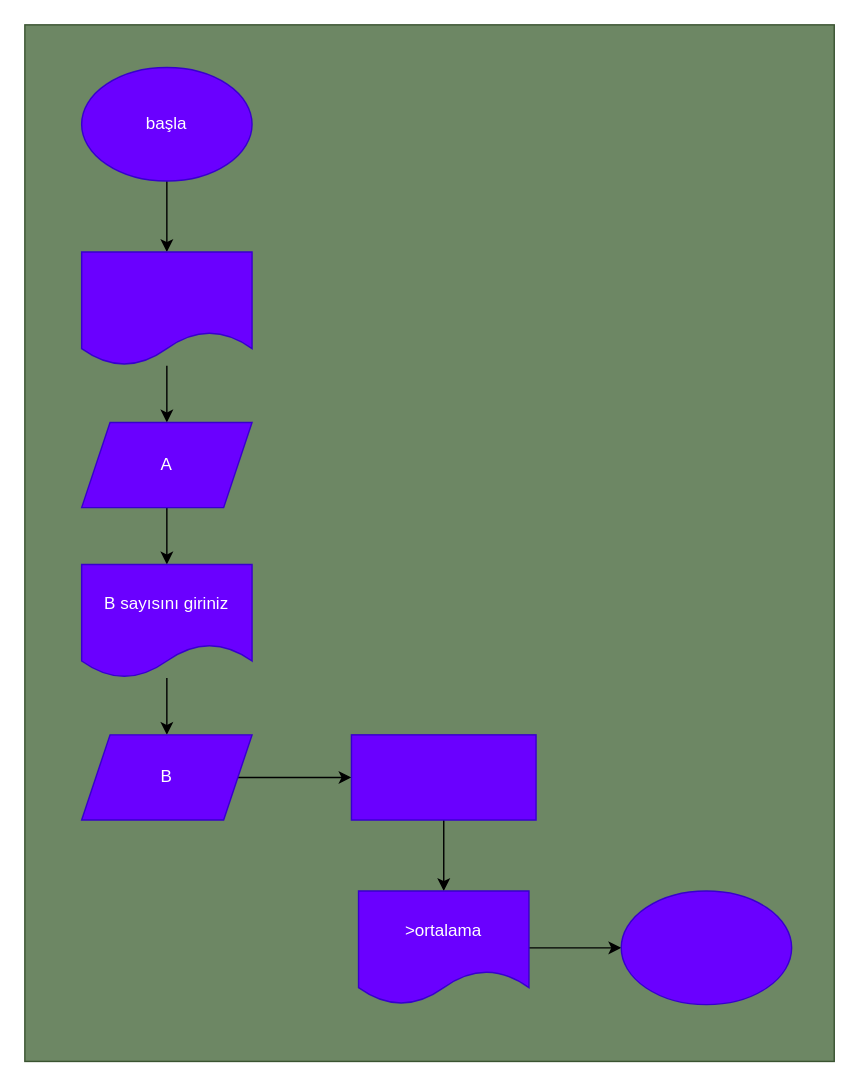
The diagram is 859 pixels wide and 1086 high, and some of its shapes have lost their labels. Each missing label, with the centre of its shape:
"A sayısını giriniz" belongs at [166,308].
"bitir" belongs at [706,947].
"ortalama = (A + B) / 2" belongs at [443,776].
